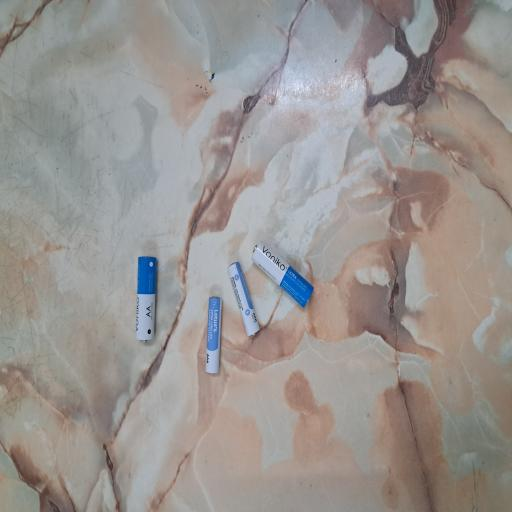battery: (152, 335, 203, 419), (130, 302, 188, 349), (127, 178, 193, 211), (103, 273, 163, 298)
